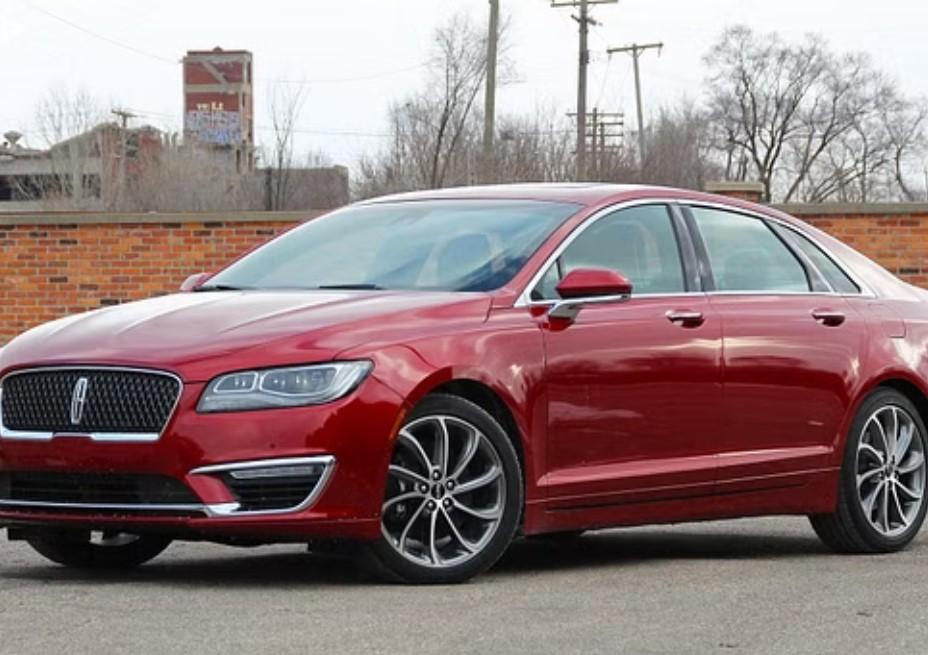lincoln: (60, 370, 97, 433)
